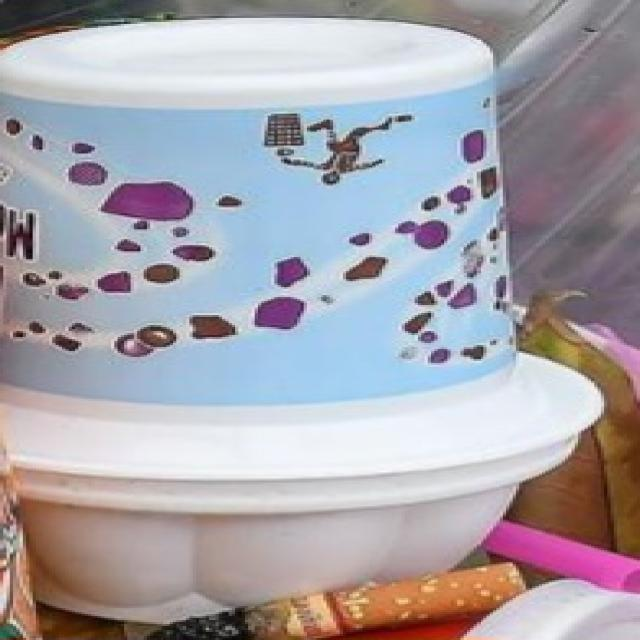paper cup: (4, 0, 640, 631)
